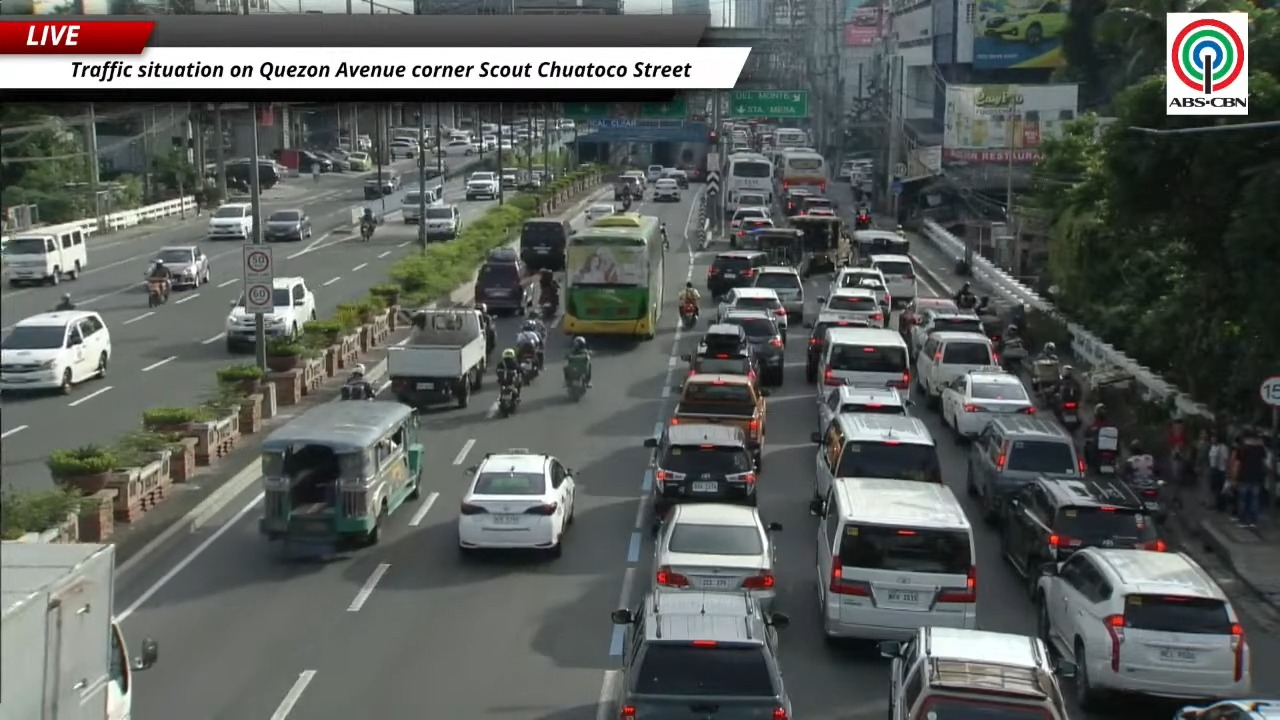bus: (562, 212, 664, 338), (723, 152, 773, 218), (778, 151, 829, 194), (773, 128, 810, 149)
car: (1036, 547, 1252, 710), (607, 588, 791, 719), (999, 476, 1167, 592), (879, 626, 1070, 719), (653, 503, 781, 611), (966, 414, 1085, 522), (458, 449, 575, 556), (811, 413, 941, 498), (0, 310, 111, 393), (940, 368, 1035, 438), (916, 332, 998, 407), (719, 309, 784, 386), (805, 313, 869, 383), (817, 385, 910, 430), (982, 0, 1069, 45), (717, 287, 787, 341), (475, 248, 530, 313), (907, 310, 983, 355), (264, 277, 316, 340), (706, 250, 768, 298), (753, 265, 804, 323), (146, 245, 210, 288), (819, 287, 888, 326), (898, 297, 957, 341), (870, 254, 916, 305), (682, 351, 757, 382), (1174, 697, 1279, 719), (828, 266, 891, 302), (696, 323, 750, 355), (207, 203, 253, 239), (400, 185, 442, 224), (263, 208, 312, 241), (730, 217, 774, 247), (424, 204, 461, 239), (486, 246, 526, 273), (729, 206, 770, 232), (363, 170, 400, 198), (465, 171, 500, 200), (613, 174, 645, 200), (783, 188, 812, 216), (312, 151, 348, 171), (389, 138, 421, 159), (653, 178, 680, 201), (584, 203, 614, 223), (735, 190, 769, 207), (346, 151, 373, 171), (464, 138, 496, 154), (663, 168, 688, 188), (444, 138, 472, 154), (837, 161, 856, 181), (646, 165, 664, 183), (802, 207, 835, 216), (498, 139, 514, 153), (559, 119, 575, 130)
motorcycle: (1124, 454, 1169, 520), (1085, 425, 1119, 475), (1030, 357, 1060, 406), (999, 338, 1027, 373), (1055, 400, 1081, 432), (498, 379, 519, 417), (518, 350, 539, 384), (340, 382, 375, 400), (566, 370, 586, 401), (148, 279, 168, 307), (540, 295, 559, 321), (680, 302, 697, 329), (360, 221, 374, 241), (855, 213, 871, 229)
truck: (0, 542, 157, 719), (387, 307, 487, 409)
